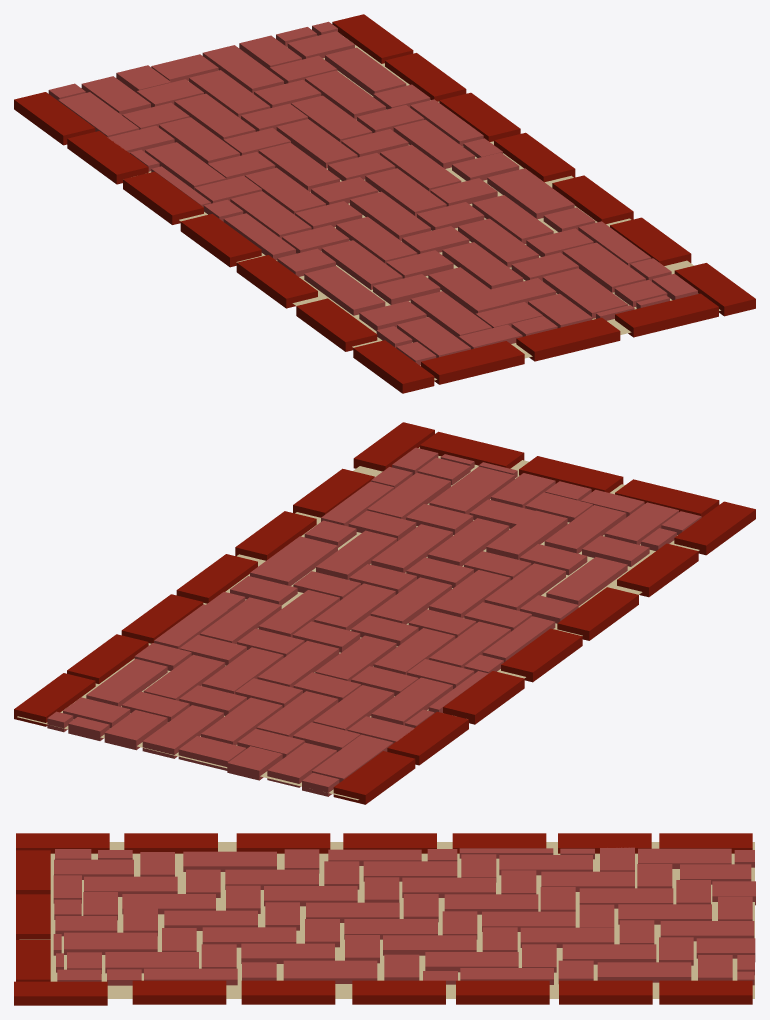
The model's file is BrickStart.fbx.
3 renders of one model, top to bottom at view 1: azimuth 30°, elevation 25°; view 2: azimuth 150°, elevation 25°; view 3: azimuth 270°, elevation 25°, orthographic. The views are drawn at different scales.
Visible parts, largest first — view 1: Cube.052, Cube.053, Cube.051, Cube.050, Cube.032, Cube.048, Cube.049, Cube.046, Cube.047, Cube.045, Cube.044, Cube.061 (+76 smaller); view 2: Cube.044, Plane, Cube.032, Cube.049, Cube.050, Cube.047, Cube.048, Cube.046, Cube.045, Cube.055, Cube.037, Cube.088 (+77 smaller); view 3: Plane, Cube.059, Cube.060, Cube.055, Cube.056, Cube.057, Cube.058, Cube.061, Cube.032, Cube.088, Cube.071, Cube.049 (+84 smaller).
Part boxes in pixels (<box>): Cube.052: <box>516,317,620,361</box>; Cube.053: <box>615,293,718,337</box>; Cube.051: <box>421,341,524,384</box>; Cube.050: <box>353,340,434,393</box>; Cube.032: <box>487,168,574,219</box>; Cube.048: <box>236,255,317,308</box>; Cube.049: <box>296,298,377,351</box>; Cube.046: <box>123,171,203,224</box>; Cube.047: <box>180,214,261,267</box>; Cube.045: <box>67,131,148,184</box>; Cube.044: <box>14,92,95,145</box>; Cube.061: <box>674,263,755,316</box>; Cube.044: <box>333,751,415,804</box>; Plane: <box>17,447,699,800</box>; Cube.032: <box>250,536,337,585</box>; Cube.049: <box>617,543,698,597</box>; Cube.050: <box>674,501,755,555</box>; Cube.047: <box>501,628,582,682</box>; Cube.048: <box>557,587,638,640</box>; Cube.046: <box>443,671,524,724</box>; Cube.045: <box>387,711,468,765</box>; Cube.055: <box>14,673,95,726</box>; Cube.037: <box>142,705,223,758</box>; Cube.088: <box>429,466,514,514</box>; Plane: <box>19,842,754,998</box>; Cube.059: <box>241,980,335,1004</box>; Cube.060: <box>132,980,226,1004</box>; Cube.055: <box>659,980,752,1004</box>; Cube.056: <box>559,980,652,1004</box>; Cube.057: <box>456,980,549,1004</box>; Cube.058: <box>352,980,445,1004</box>; Cube.061: <box>14,981,107,1005</box>; Cube.032: <box>283,960,377,983</box>; Cube.088: <box>64,932,157,954</box>; Cube.071: <box>597,962,691,982</box>; Cube.049: <box>124,833,217,853</box>.
Size of the model in its own units: 824 by 25.77 by 1585.
